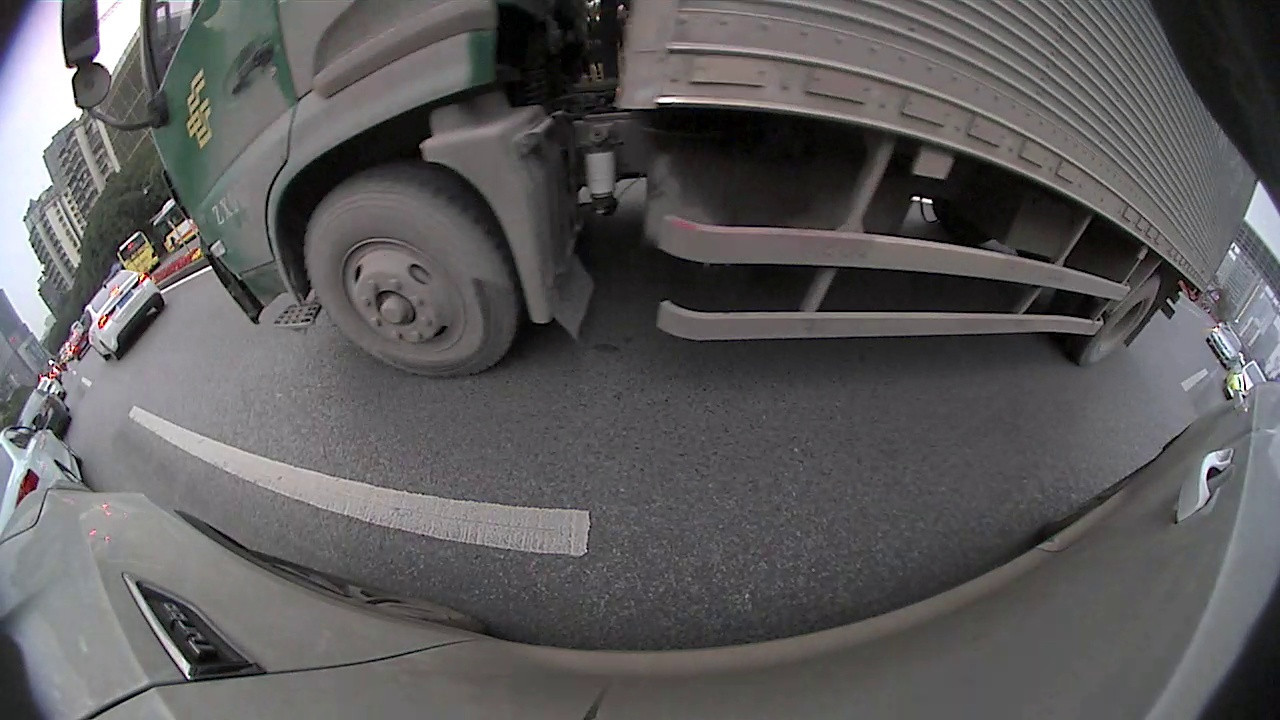bus: (151, 199, 197, 253), (116, 231, 161, 278)
car: (79, 267, 168, 364), (2, 430, 83, 531), (12, 391, 71, 440), (1222, 364, 1274, 401), (1207, 323, 1244, 371)
front: (300, 170, 523, 378)
rear: (1079, 274, 1162, 369)
truck: (61, 1, 1258, 380)
